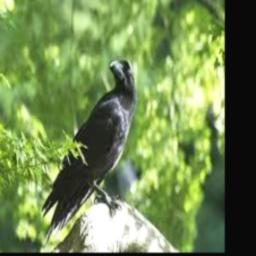Crow: (41, 56, 136, 248)
